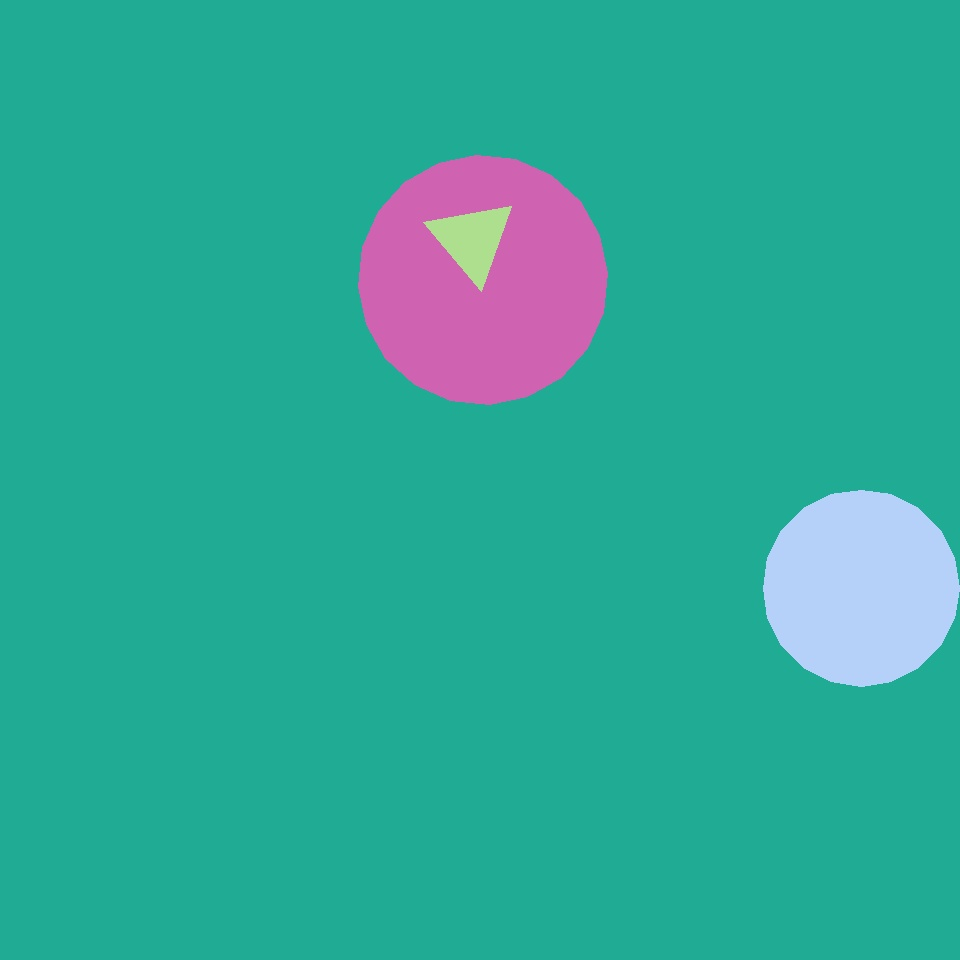circle: (154, 328, 407, 566), (32, 383, 183, 558), (546, 131, 694, 269), (428, 198, 516, 282)
square: (252, 414, 527, 688)
triangle: (60, 82, 324, 345), (359, 156, 608, 404), (763, 490, 959, 686), (439, 170, 533, 264)
